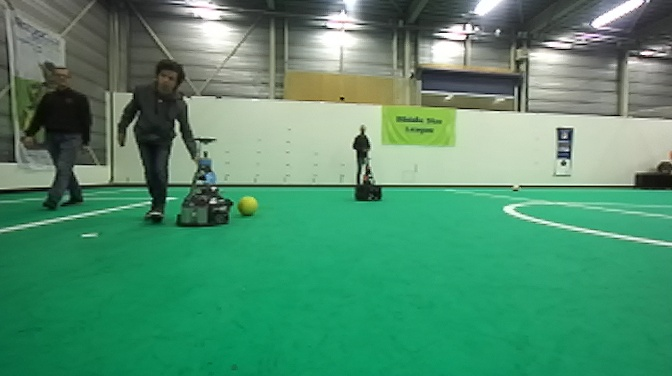ball: (237, 193, 260, 220), (509, 181, 523, 194)
human: (115, 58, 200, 231), (21, 64, 92, 212), (350, 123, 376, 187)
robot: (173, 134, 234, 228), (353, 154, 385, 204)
